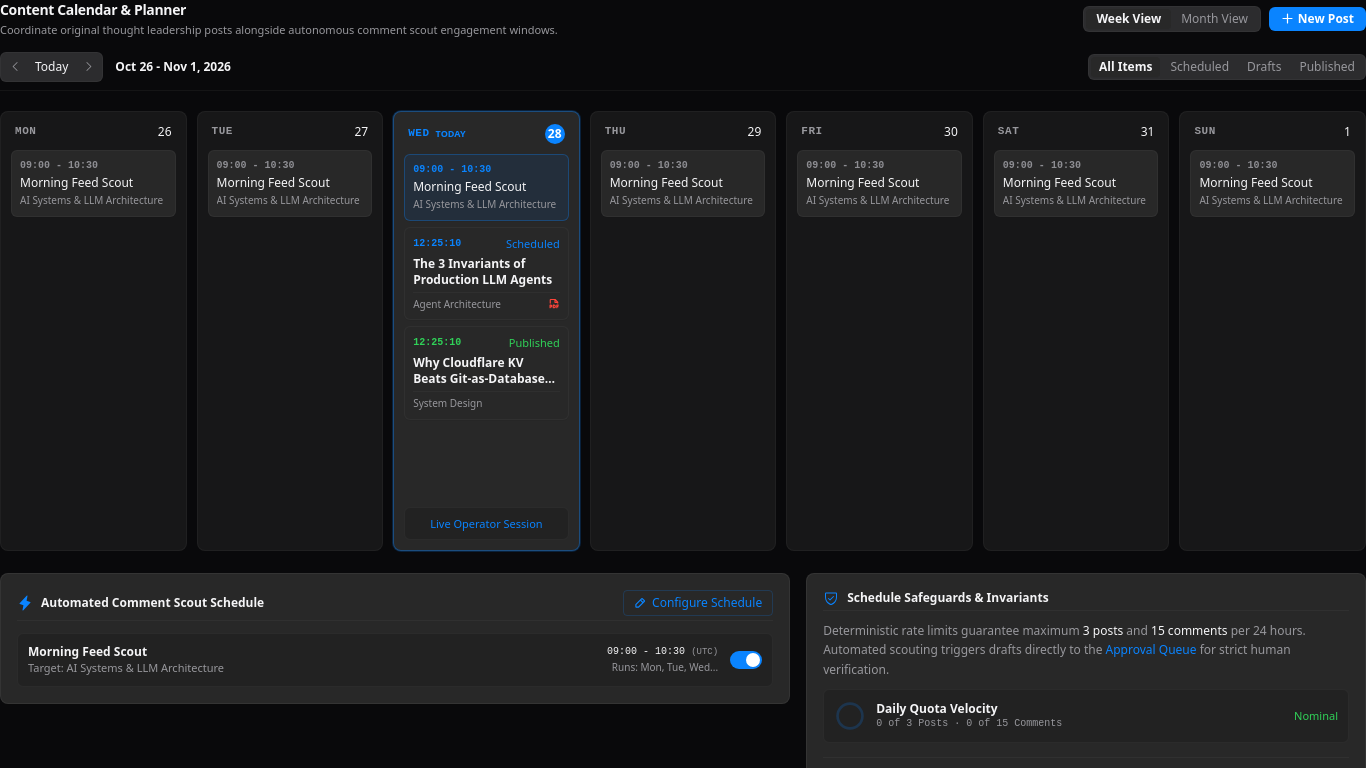
it: CalendarView › opens post detail modal when a post card is clicked
Click the heading "The 3 Invariants of Production LLM Agents" at (486, 272), box [413,256,560,288]
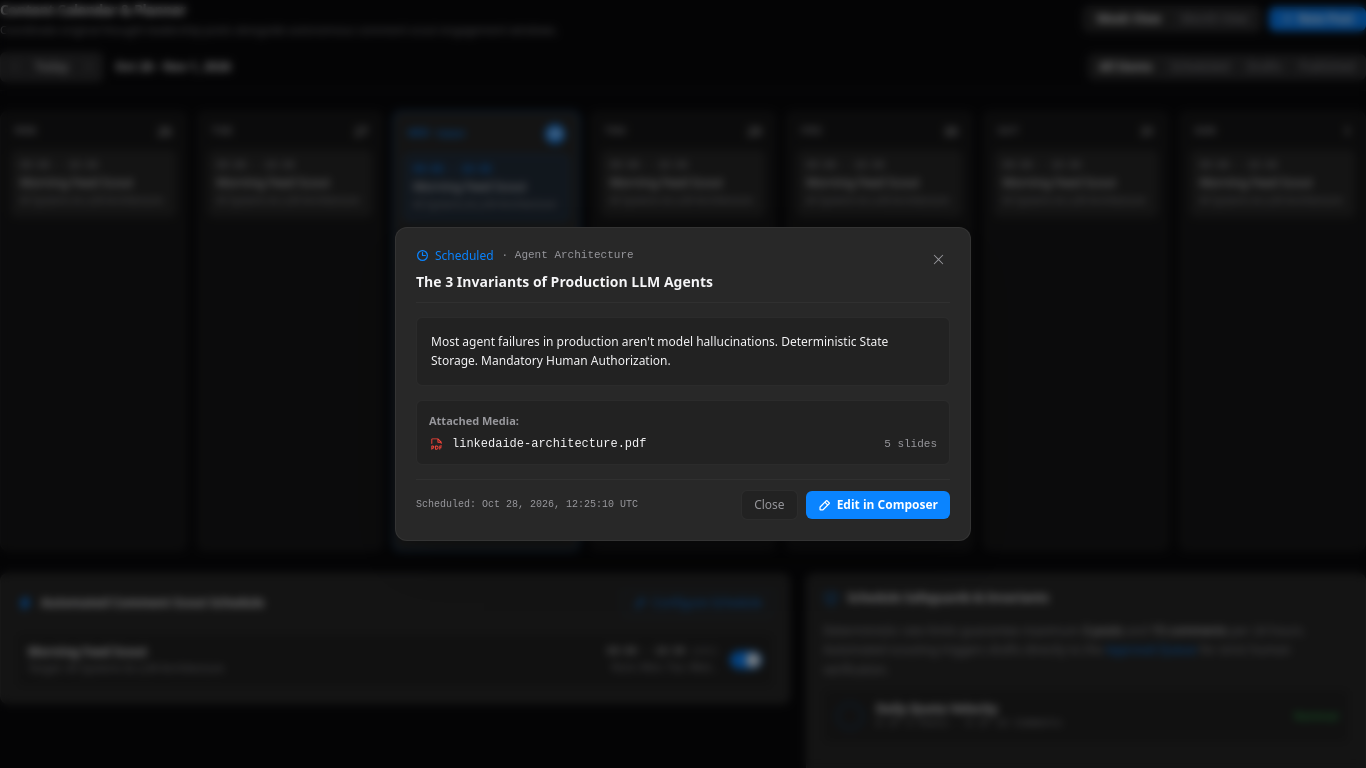
Now the element with test id "post-detail-modal" is shown
Now the element with test id "post-detail-modal" shows "Deterministic State Storage", box [431,332,892,369]
Now the element with test id "post-detail-modal" shows "linkedaide-architecture.pdf", box [452,438,646,452]
# Close modal
Click the button with test id "close-modal-btn" at (938, 259), box [927,248,950,270]
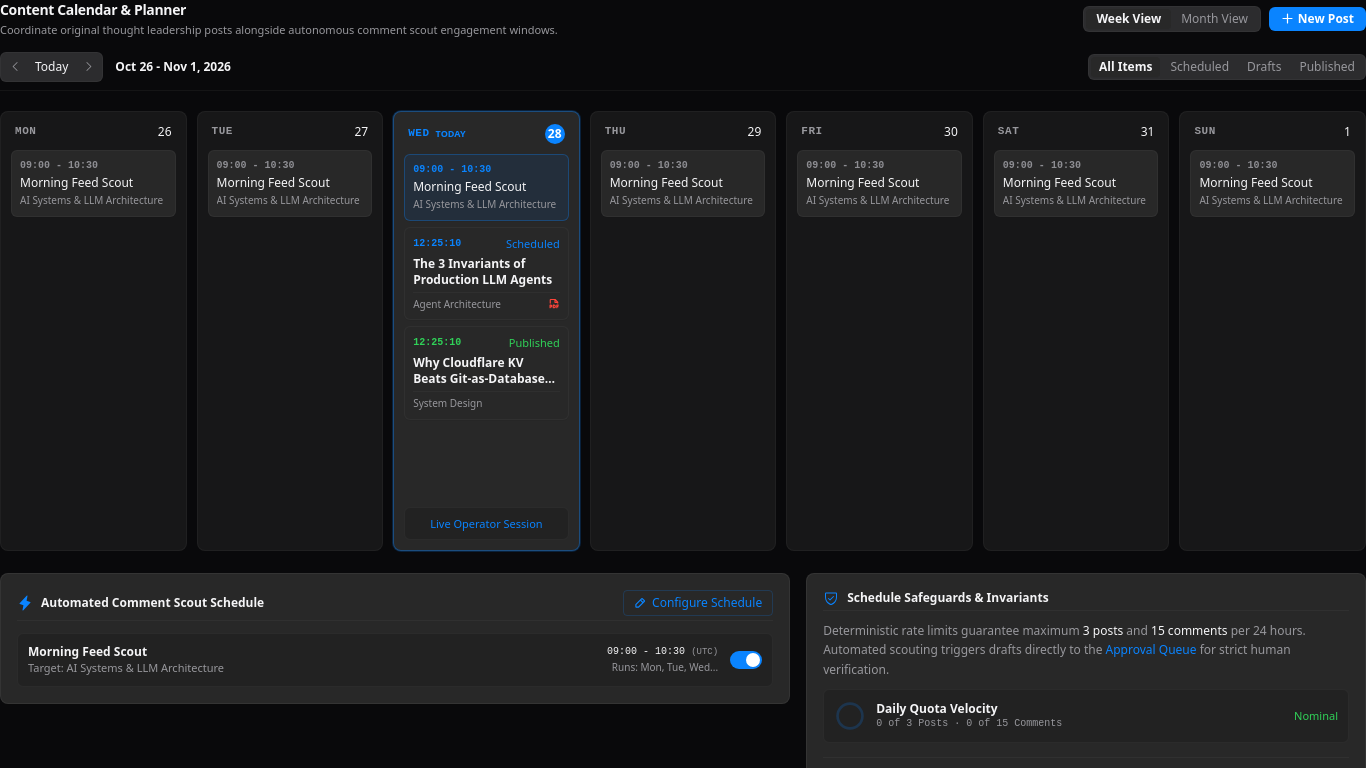
Now the element with test id "post-detail-modal" is gone
